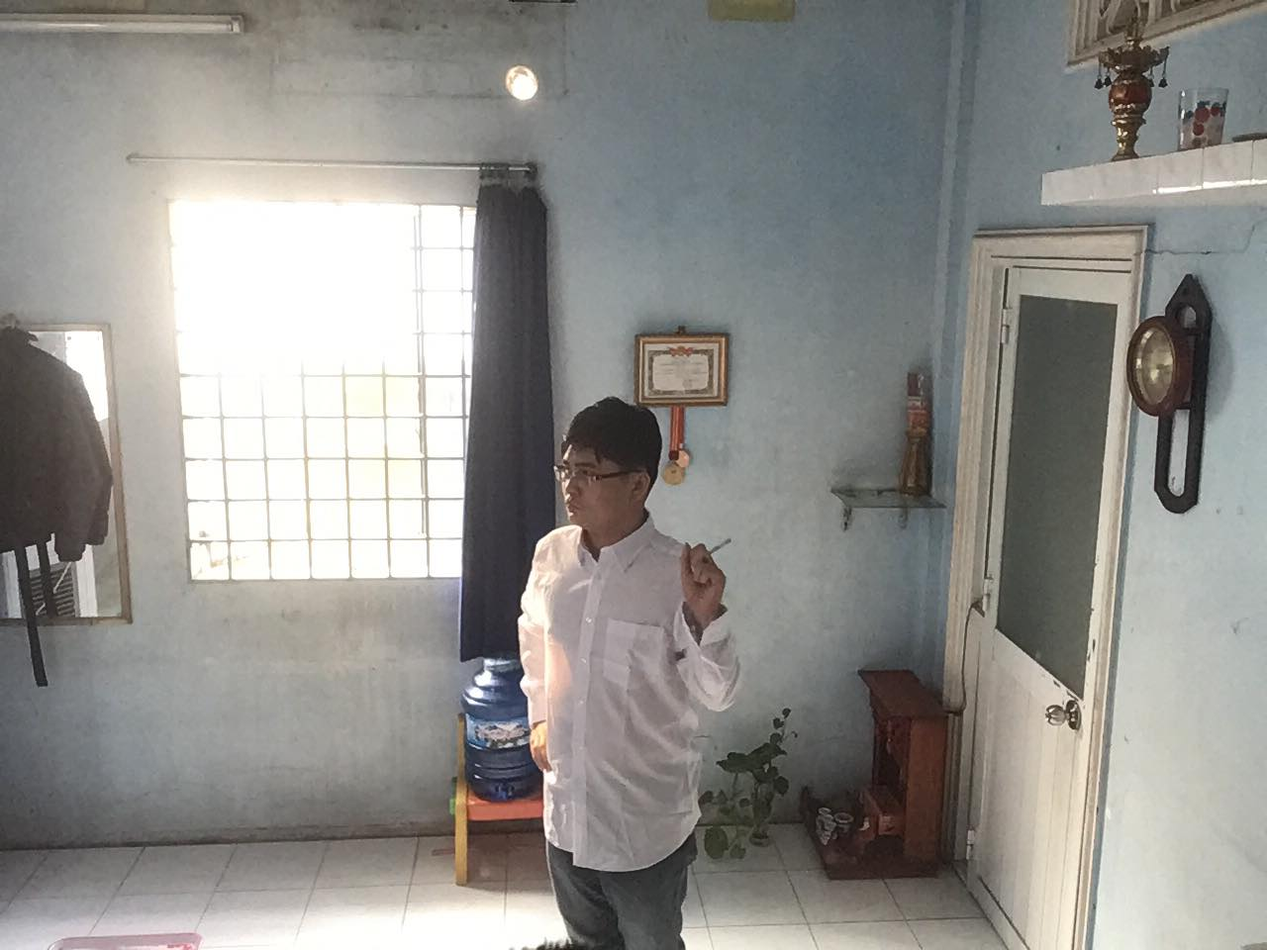cigarette: (699, 533, 731, 563)
person: (483, 375, 769, 950)
